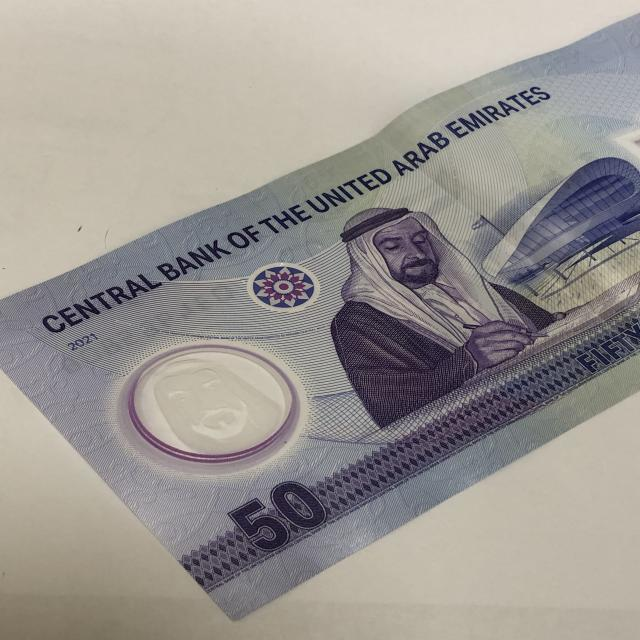50_AED: (3, 14, 638, 634)
